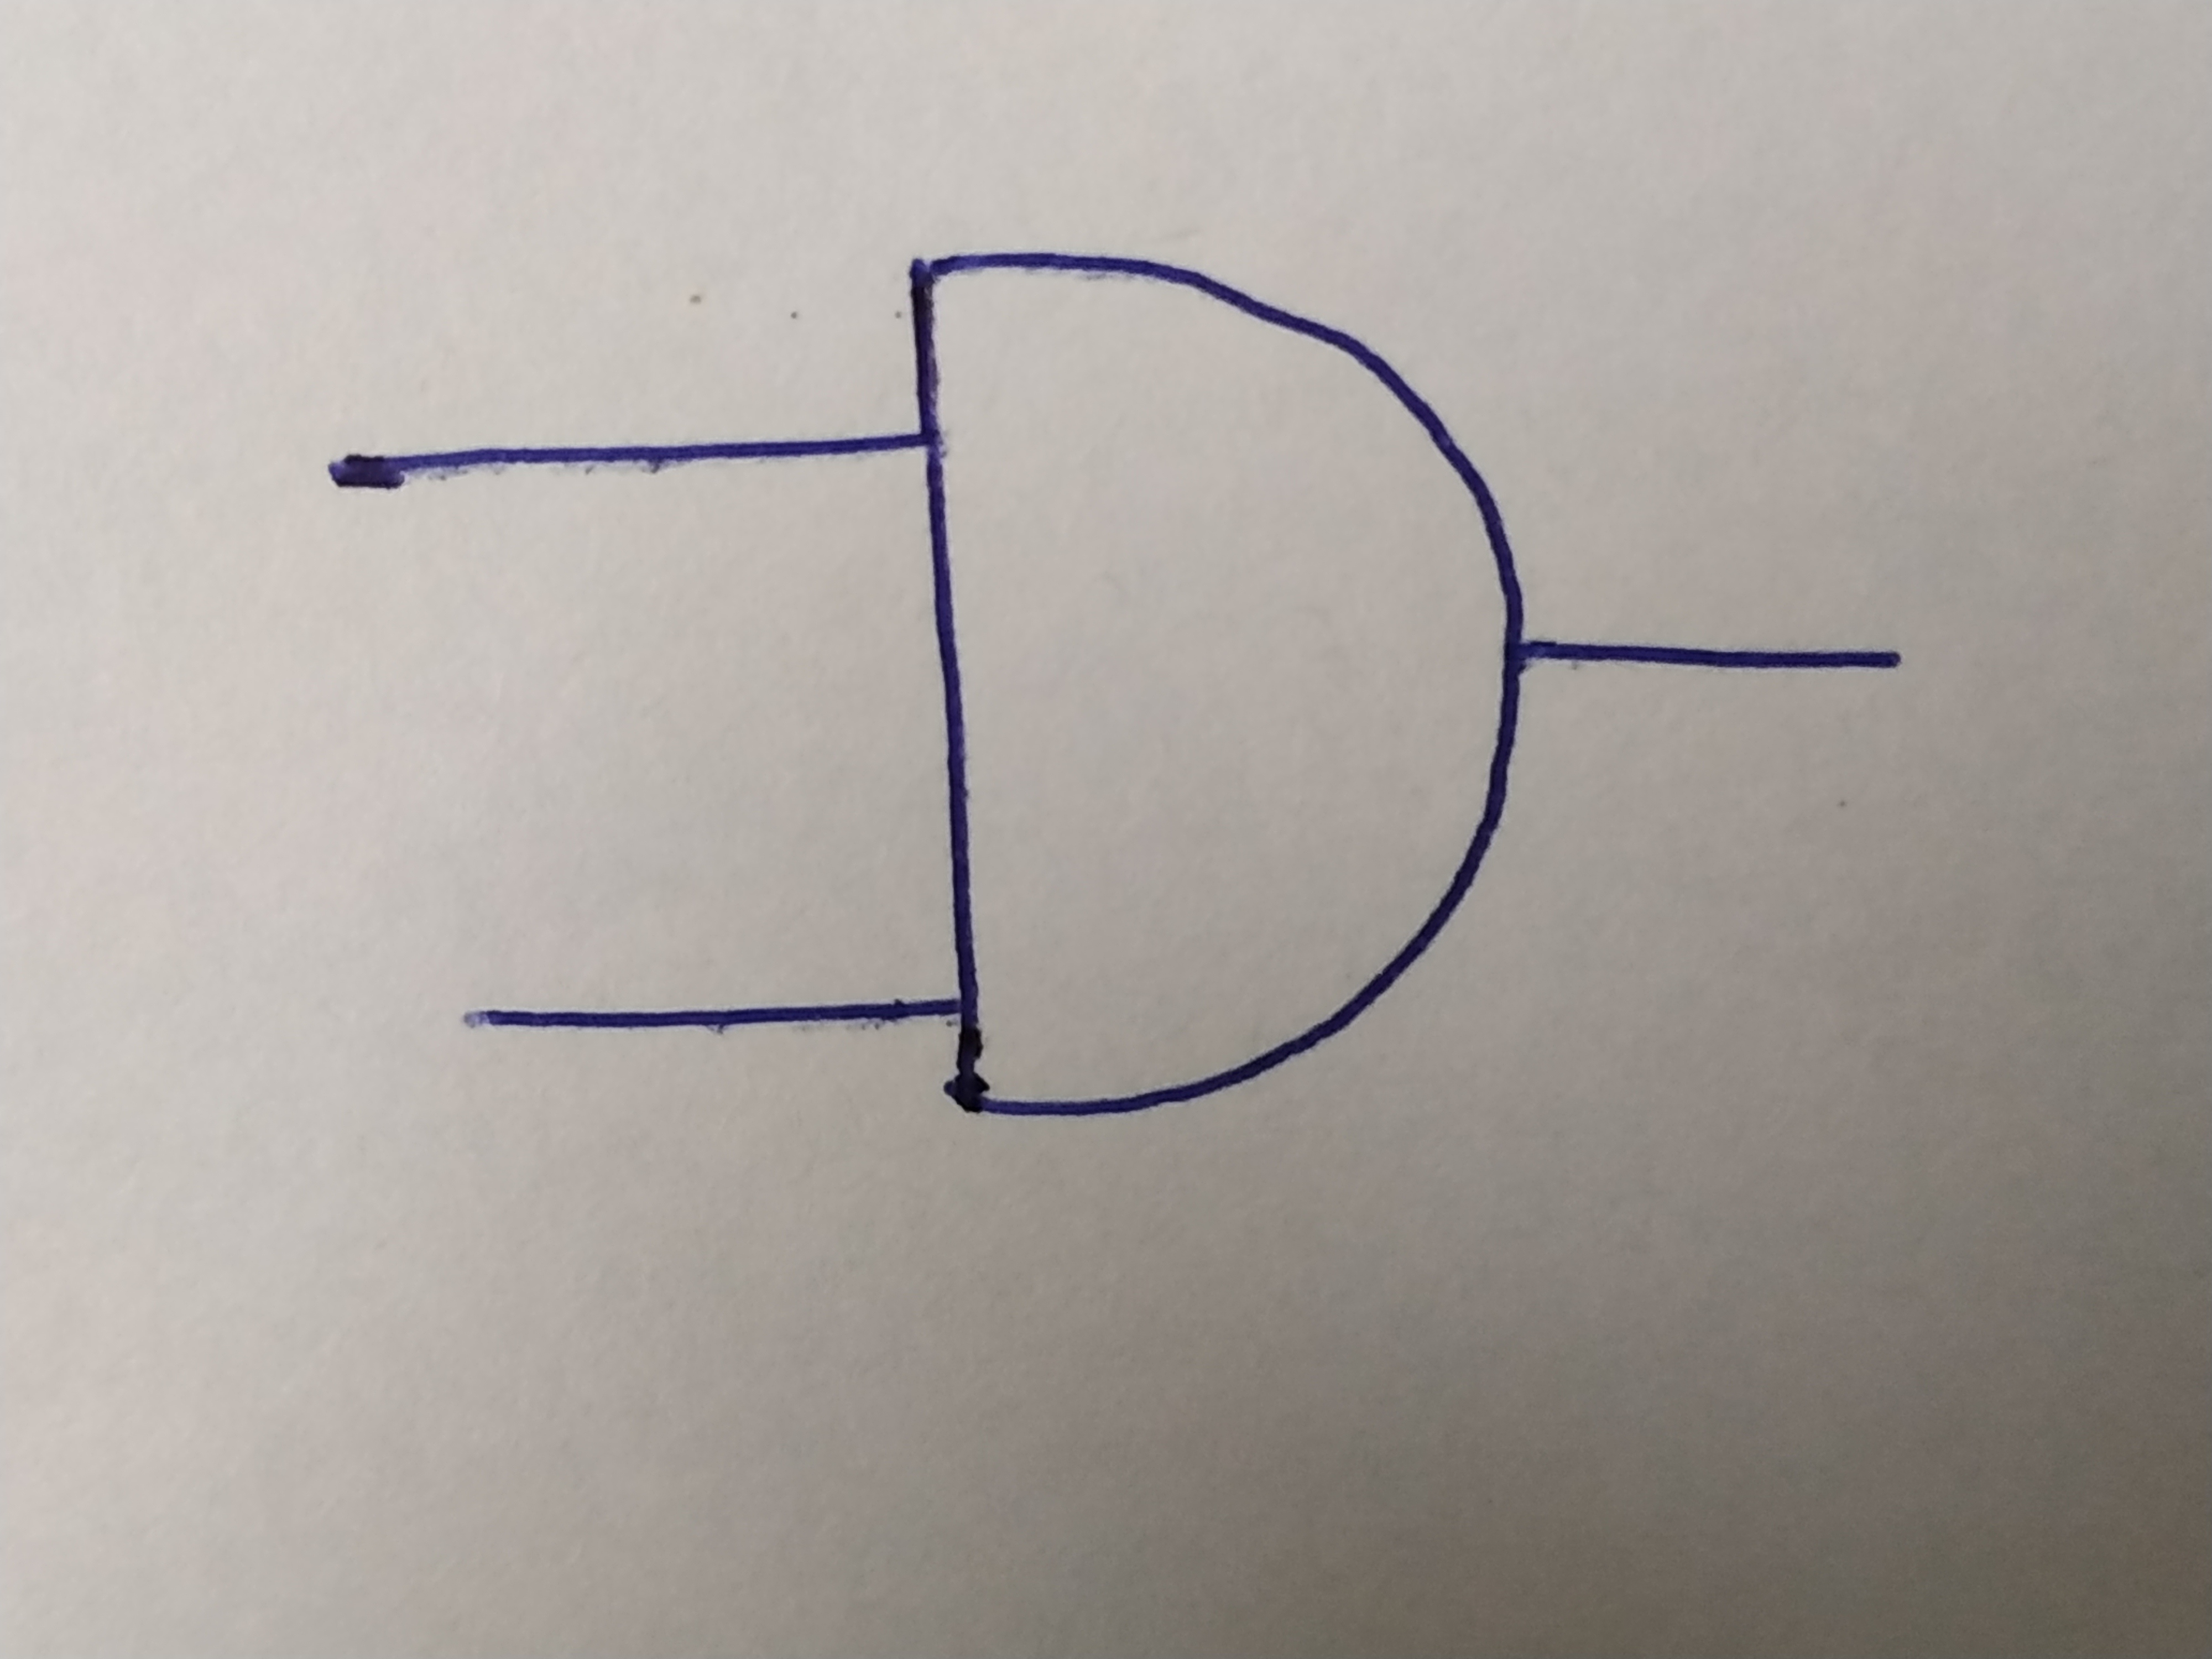and: (914, 249, 1527, 1112)
